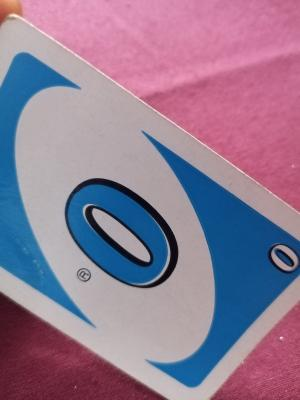num_0: (62, 174, 185, 293), (259, 233, 300, 285)
